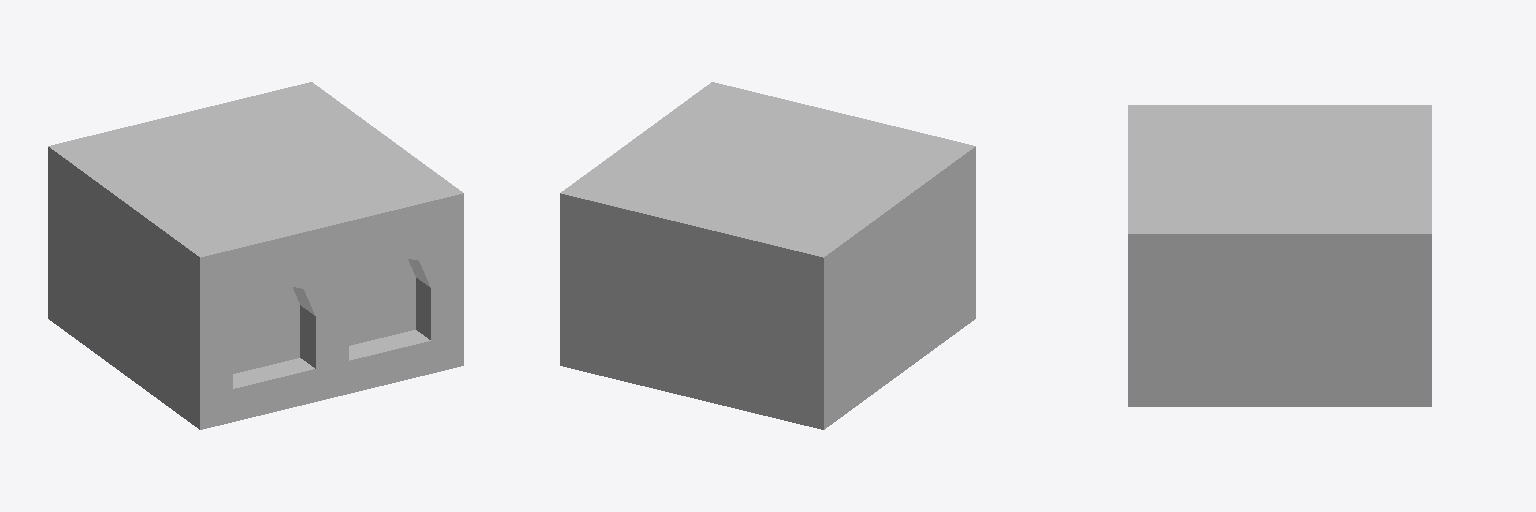
Rendered from building-windows-round.obj.
3 renders of one model, left to right at view 1: azimuth 30°, elevation 25°; view 2: azimuth 150°, elevation 25°; view 3: azimuth 270°, elevation 25°, orthographic.
Visible parts, largest first — view 1: building-windows-round; view 2: building-windows-round; view 3: building-windows-round.
Boxes of the visible parts, <box> form: building-windows-round: <box>48,82,463,429</box>; building-windows-round: <box>560,82,975,429</box>; building-windows-round: <box>1128,105,1431,406</box>.
Bounding box in the file's own units: 1 × 0.625 × 1.